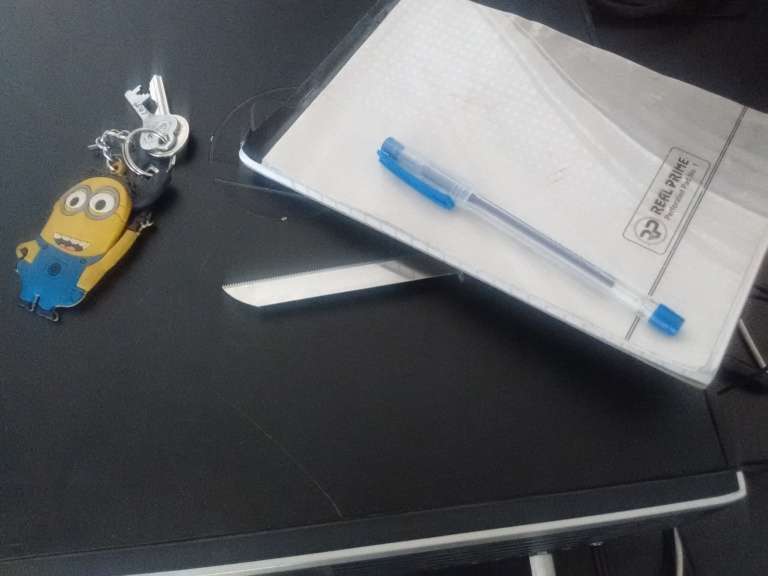knife: (221, 247, 466, 309)
